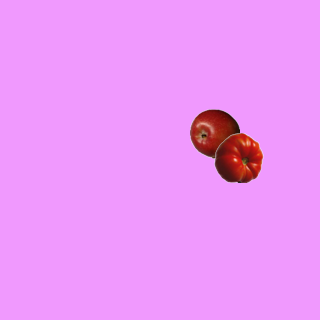Apple Braeburn: (189, 108, 239, 158)
Tomato 3: (213, 132, 263, 182)
